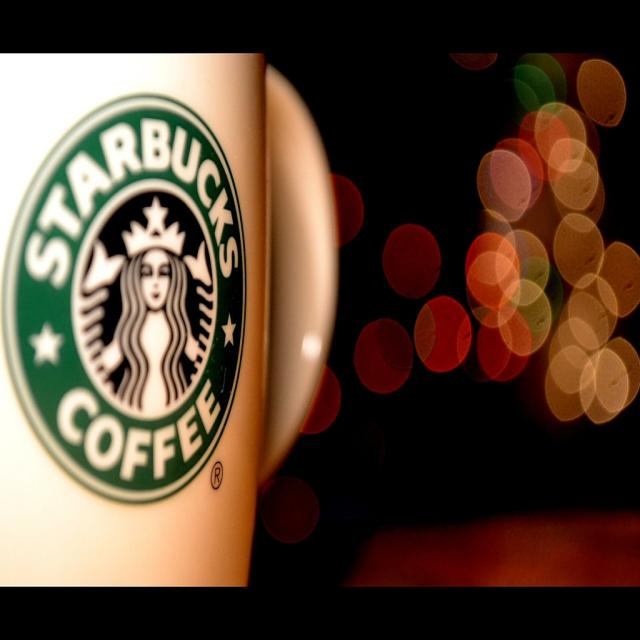starbucks: (2, 94, 247, 507)
